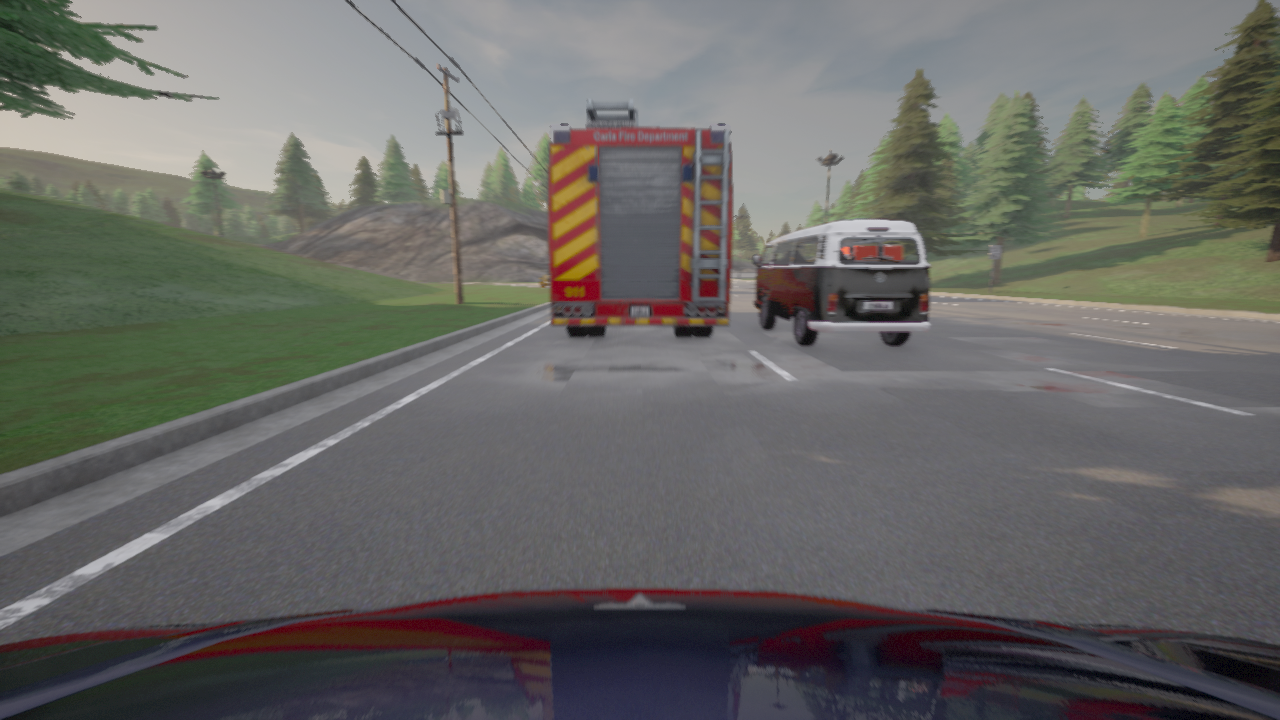cyclist: (0, 588, 1279, 719), (548, 100, 732, 336), (753, 219, 930, 346), (540, 272, 549, 287)
